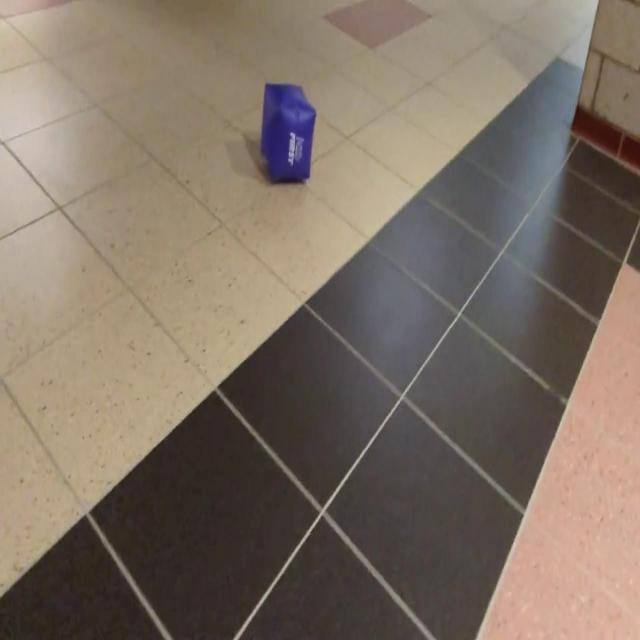frc_cube: (256, 86, 316, 180)
